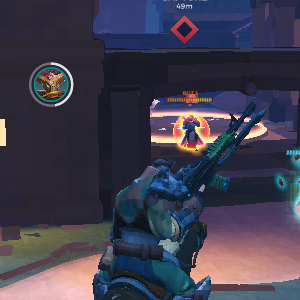model: (179, 109, 203, 151)
